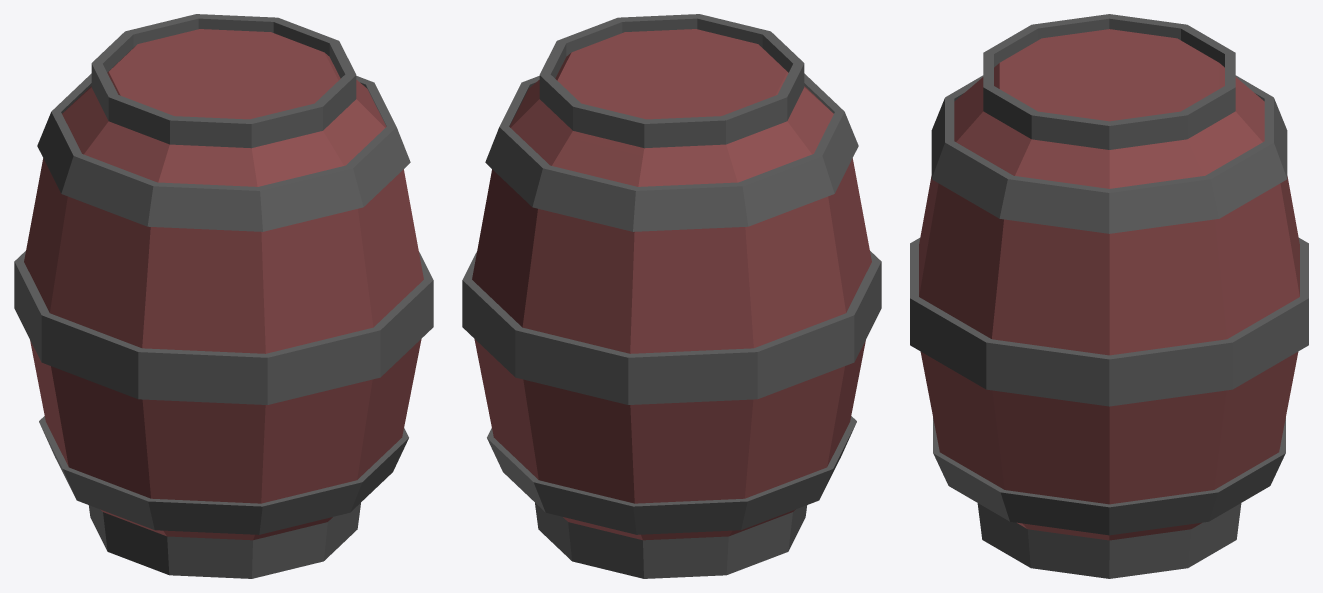
The model's file is barrel_b004.glb.
3 renders of one model, left to right at view 1: azimuth 30°, elevation 25°; view 2: azimuth 150°, elevation 25°; view 3: azimuth 270°, elevation 25°, orthographic.
Parts seen in each view (by area): view 1: barrel_b004; view 2: barrel_b004; view 3: barrel_b004.
Part boxes in pixels (x1,y1,x2,y2): barrel_b004: [14, 14, 433, 578]; barrel_b004: [462, 14, 881, 578]; barrel_b004: [910, 14, 1308, 578].
Bounding box in the file's own units: 0.4359 × 0.5187 × 0.4145.
1 material, 1 textured.
